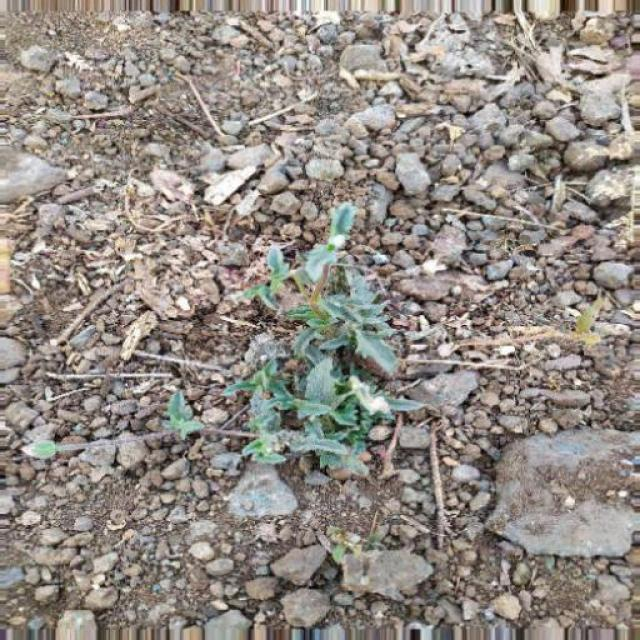weed: (160, 220, 410, 472)
